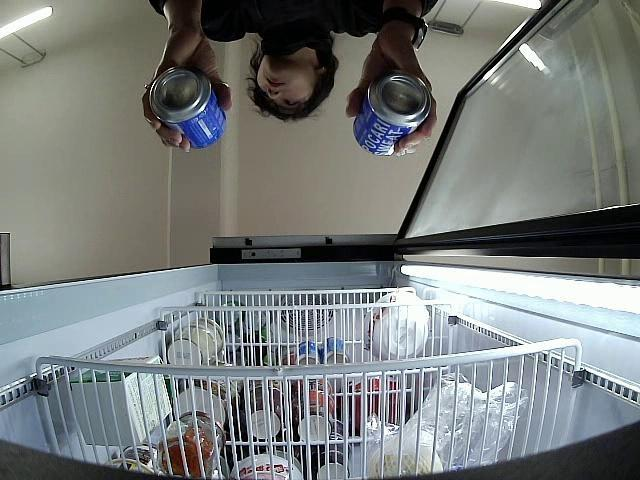13_pocariSweat: (148, 67, 226, 153), (354, 75, 430, 158)
